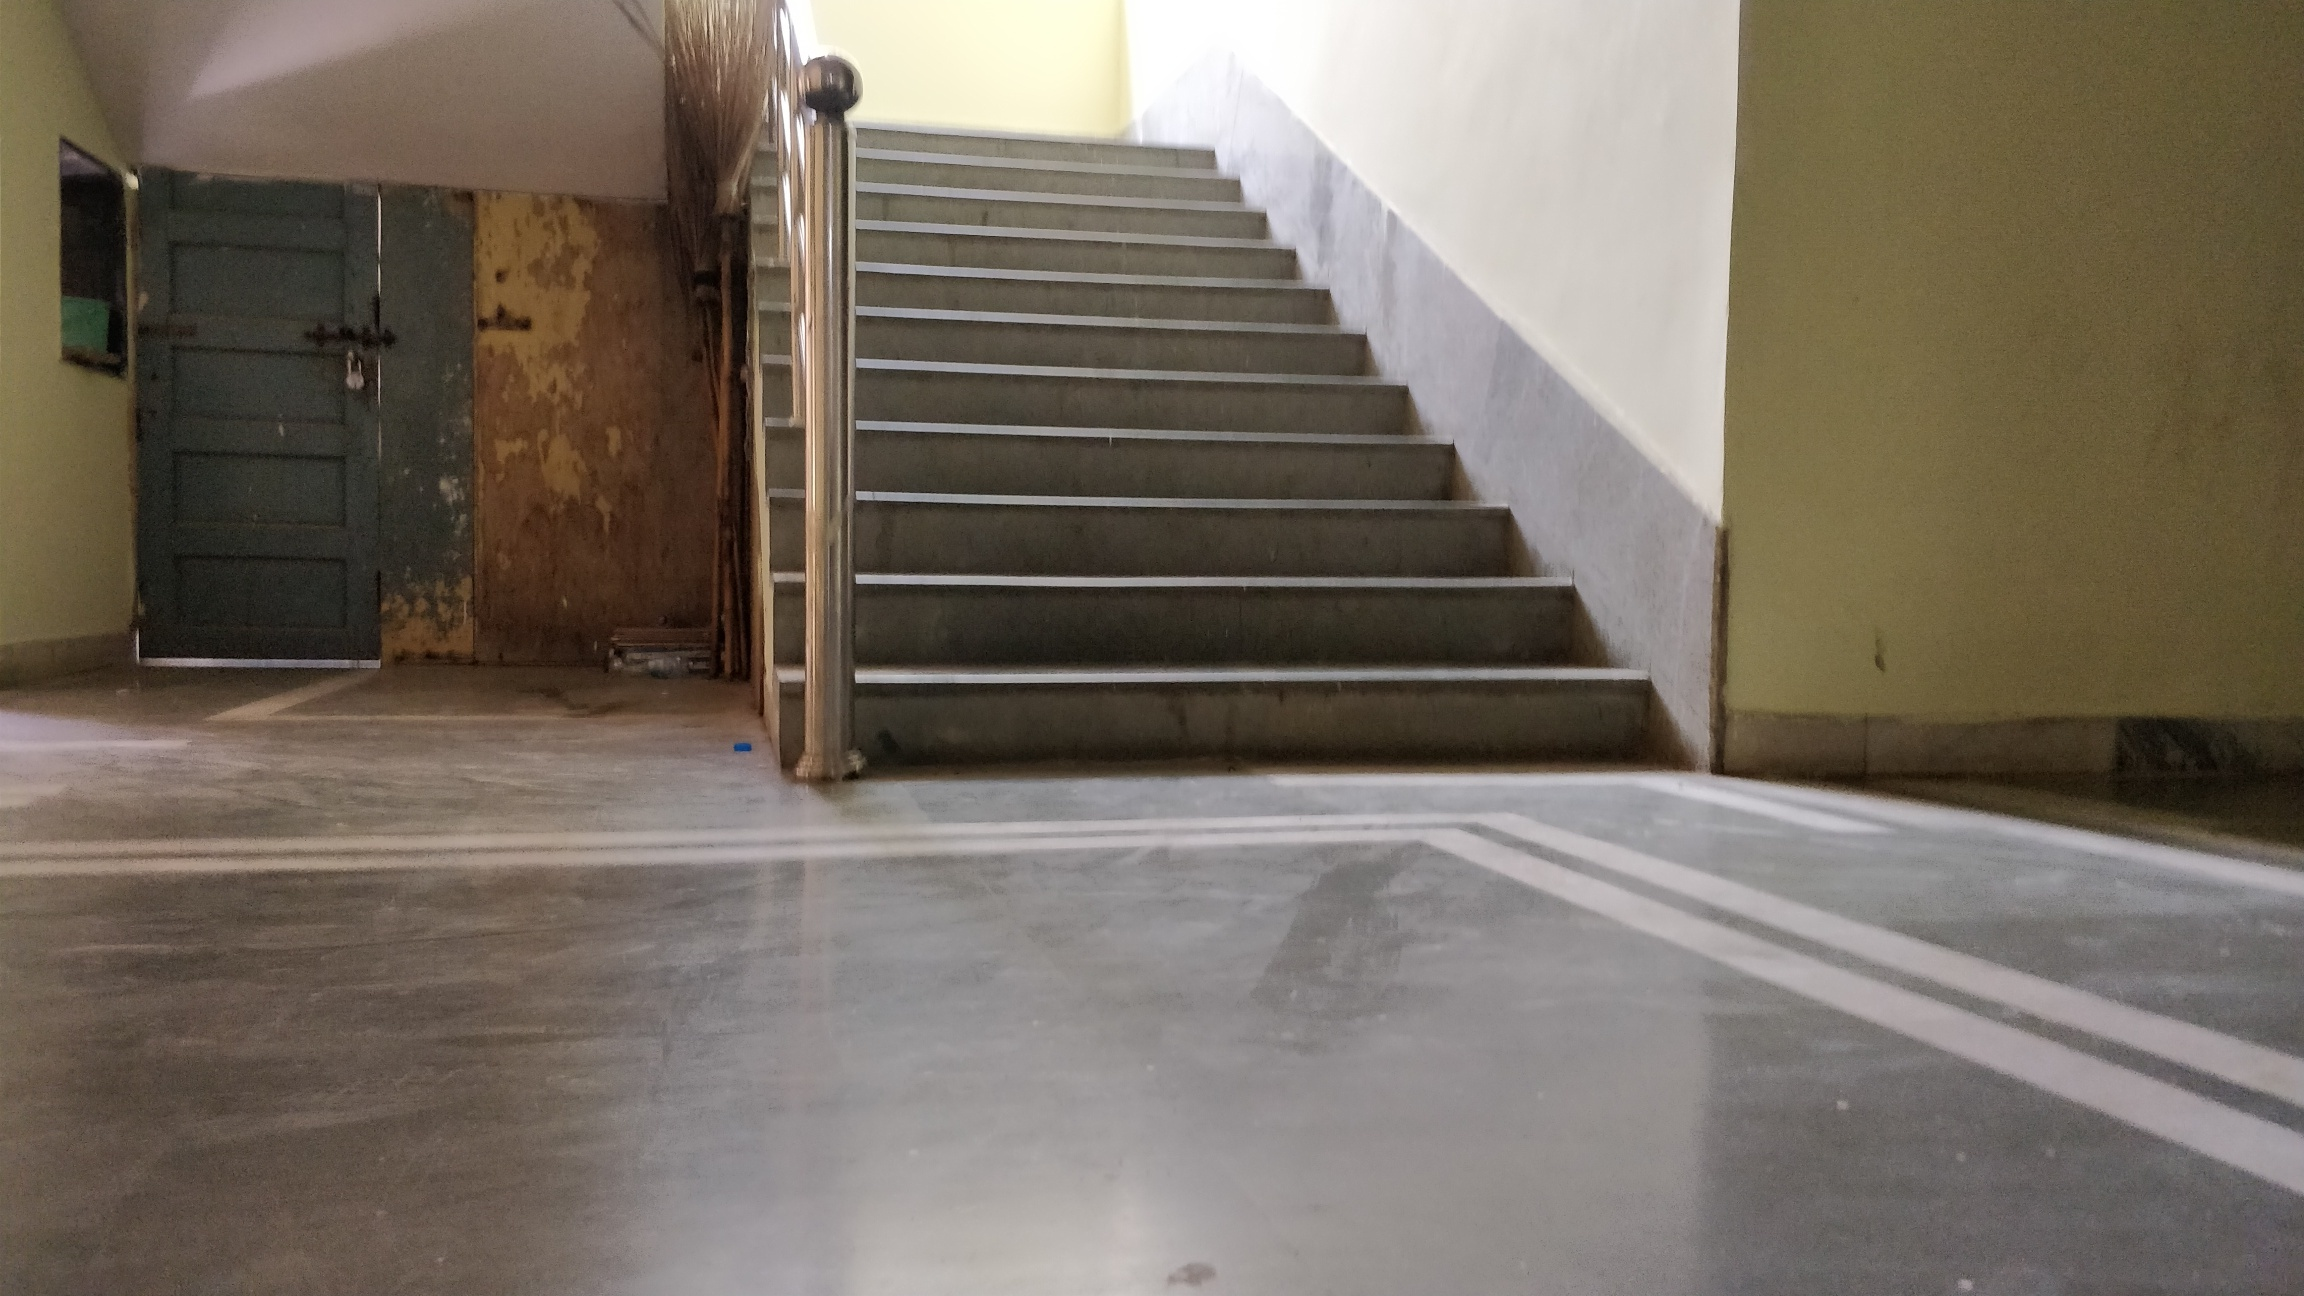stairs_up: (748, 101, 1646, 750)
